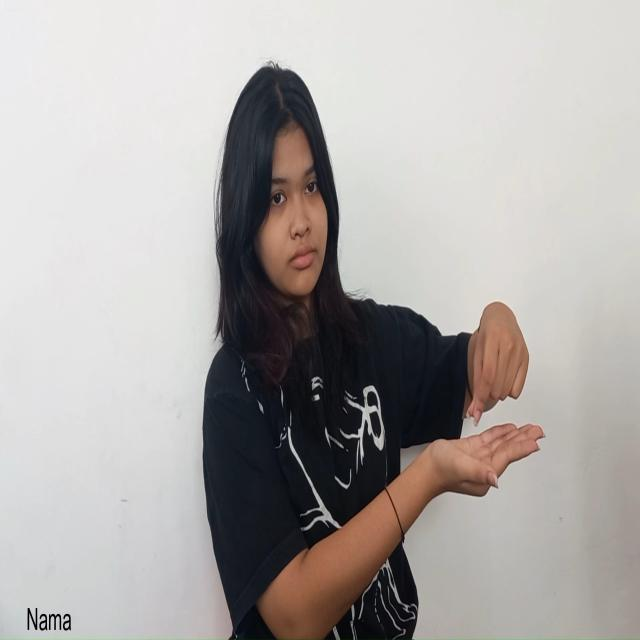Nama -BISINDO-: (428, 299, 546, 501)
